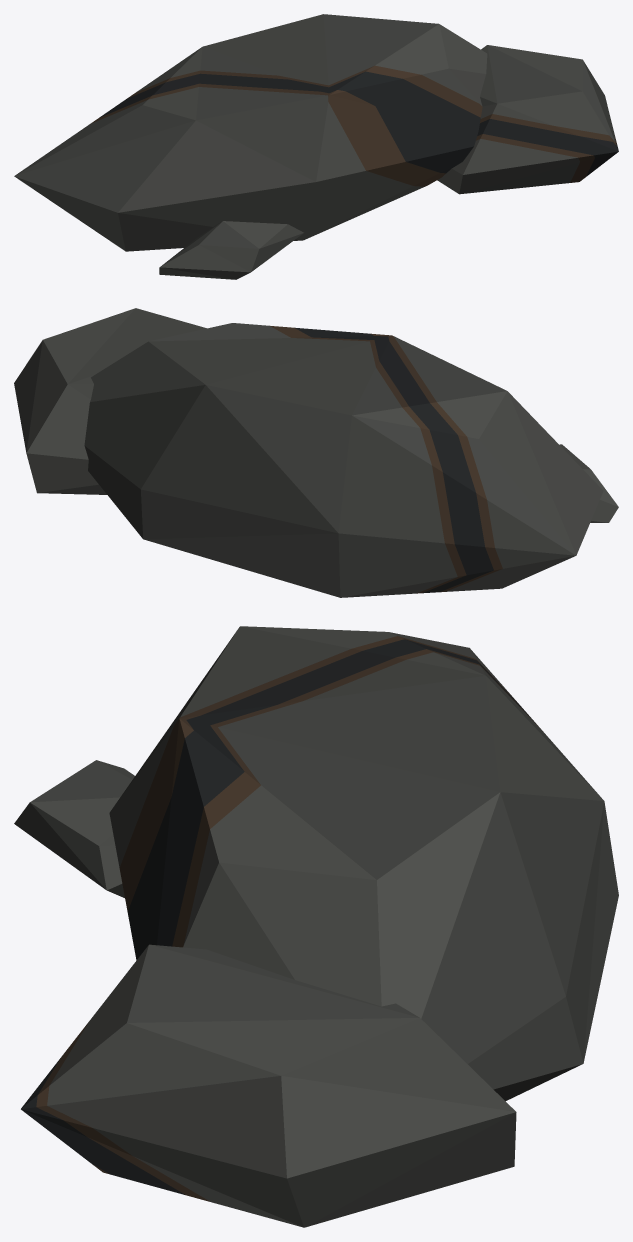
The model's file is ore_iron_v02_lod0.glb.
The picture shows the model from 3 angles, top to bottom: view 1: azimuth 30°, elevation 25°; view 2: azimuth 150°, elevation 25°; view 3: azimuth 270°, elevation 25°; orthographic projection. The views are drawn at different scales.
Visible parts, largest first — view 1: ore_iron_v02_lod0; view 2: ore_iron_v02_lod0; view 3: ore_iron_v02_lod0.
Part boxes in pixels (<box>): ore_iron_v02_lod0: <box>14,14,618,279</box>; ore_iron_v02_lod0: <box>14,308,618,597</box>; ore_iron_v02_lod0: <box>14,626,618,1227</box>.
Size of the model in its own units: 3.26 by 0.7383 by 1.67.
